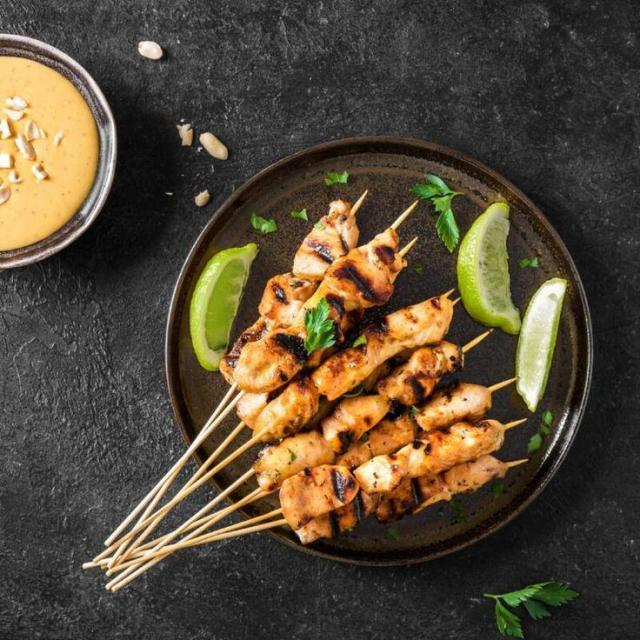Sate: (39, 160, 575, 613)
